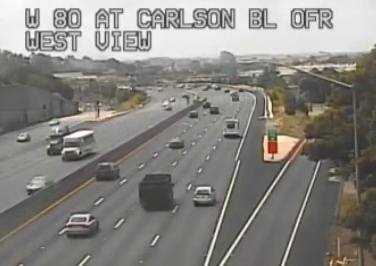bus: (223, 119, 240, 137)
car: (66, 213, 97, 237), (193, 186, 214, 205), (96, 162, 119, 179)
small-truck: (139, 174, 172, 209)
